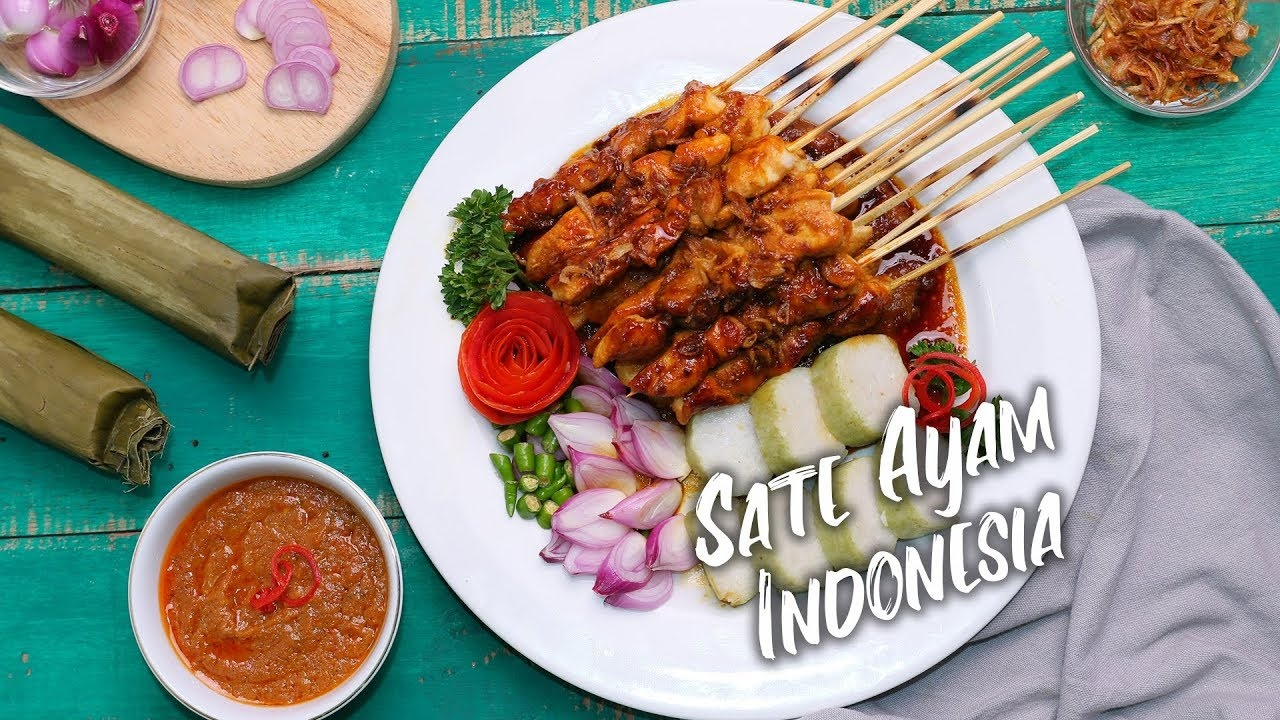sate: (489, 84, 944, 431)
